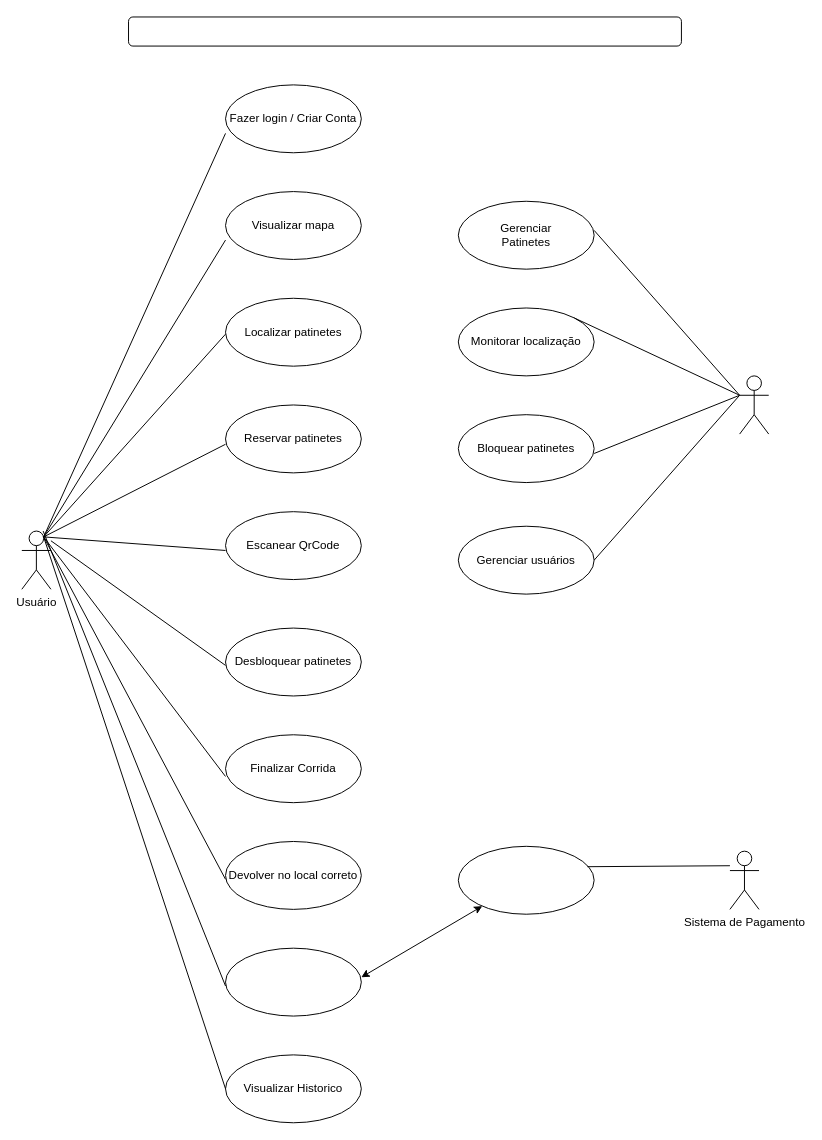
The diagram is 822 pixels wide and 1140 high, and some of its shapes have lost their labels. Here are the shapes that lost their labels. From the top down, the box of each, then its label:
(128, 16, 681, 46): Diagrama de Caso de Uso - Sistema de Micromobilidade - Patinetes
(739, 375, 769, 434): Administrador
(457, 845, 594, 914): Processar pagamento
(225, 947, 361, 1016): Realizar pagamento
